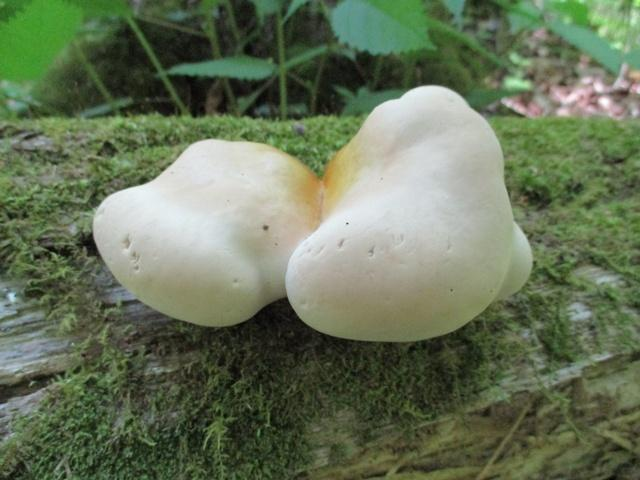Non-edible Mushroom: (284, 82, 534, 343), (91, 136, 325, 328)
